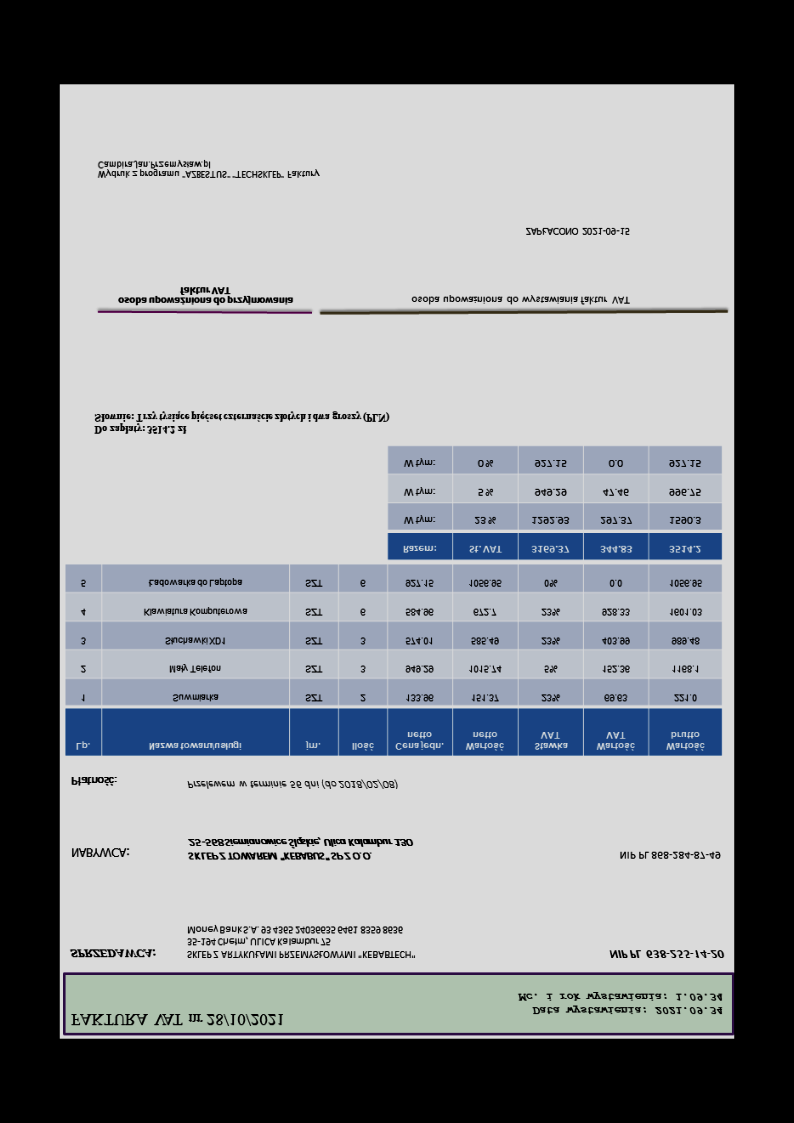Table: (64, 563, 723, 757), (386, 445, 723, 561)
TextBox: (184, 923, 417, 961), (92, 410, 390, 436), (515, 989, 724, 1018), (185, 836, 414, 862), (95, 158, 321, 181), (116, 285, 296, 309), (69, 1011, 286, 1029), (409, 293, 631, 308), (185, 777, 399, 792), (607, 947, 725, 961), (523, 225, 630, 238), (618, 849, 722, 861), (68, 947, 157, 960), (69, 846, 130, 859), (69, 774, 119, 788)
